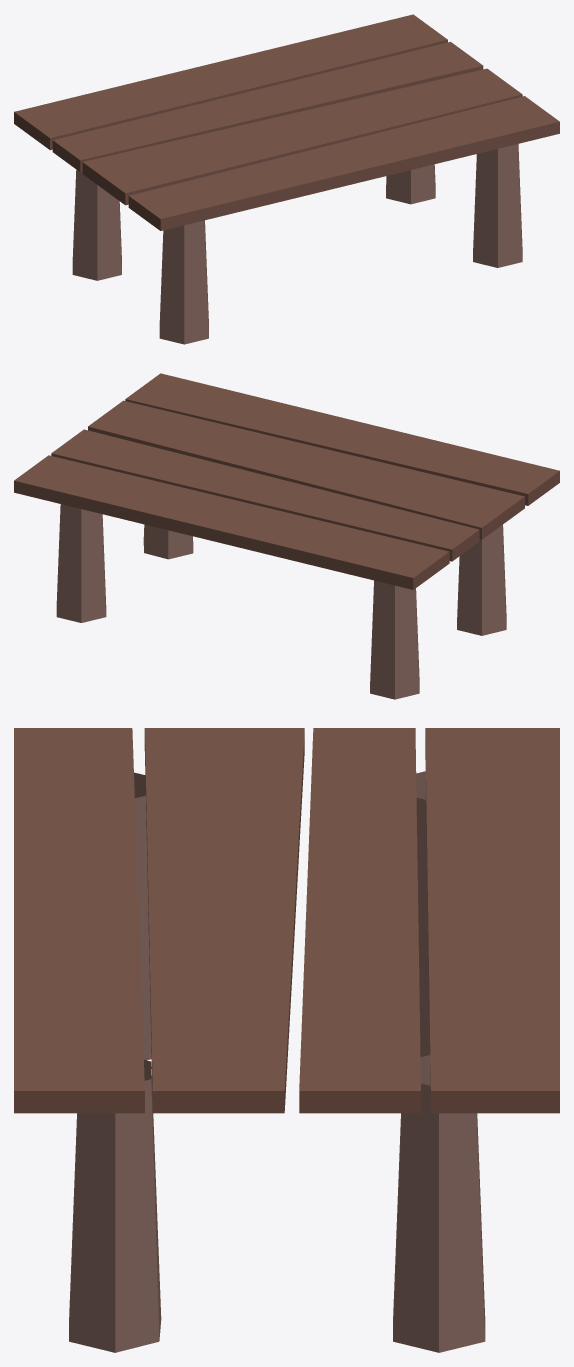
File: props_064.glb
3 renders of one model, top to bottom at view 1: azimuth 30°, elevation 25°; view 2: azimuth 150°, elevation 25°; view 3: azimuth 270°, elevation 25°, orthographic. The views are drawn at different scales.
Visible parts, largest first — view 1: props_064; view 2: props_064; view 3: props_064.
Part boxes in pixels (x1,y1,x2,y2): props_064: (14,14,559,344); props_064: (14,373,559,699); props_064: (14,728,559,1352).
Size of the model in its own units: 4.8 by 1.67 by 3.05.
1 material, 1 textured.
